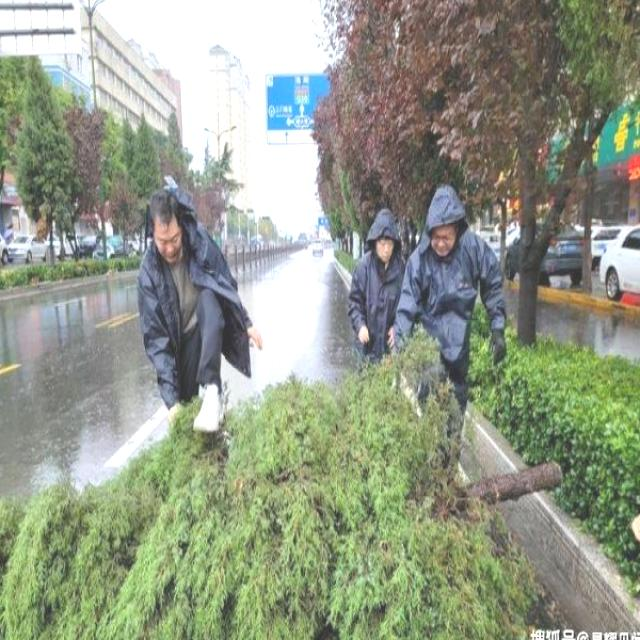fallen_object: (0, 327, 561, 640)
